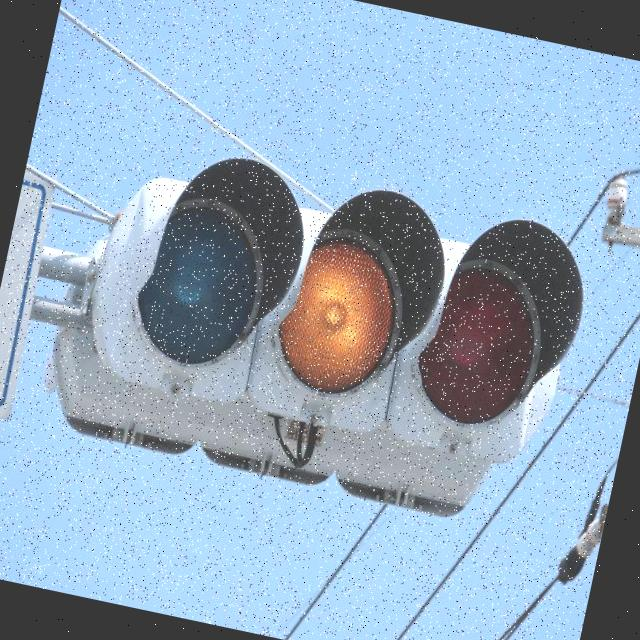yellow_light: (280, 180, 438, 422)
